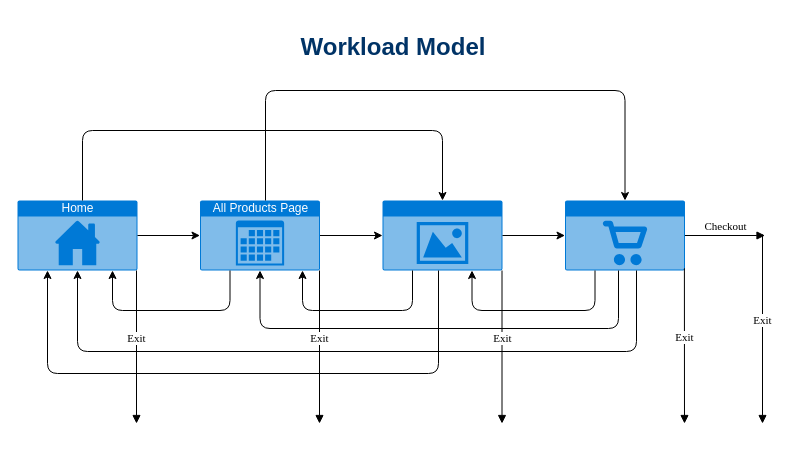
This 790x449 diagram has some shape labels left out. Each missing label, with the centre of its shape:
"Cart Page" belongs at point (624, 235).
"Product Page" belongs at point (442, 235).
